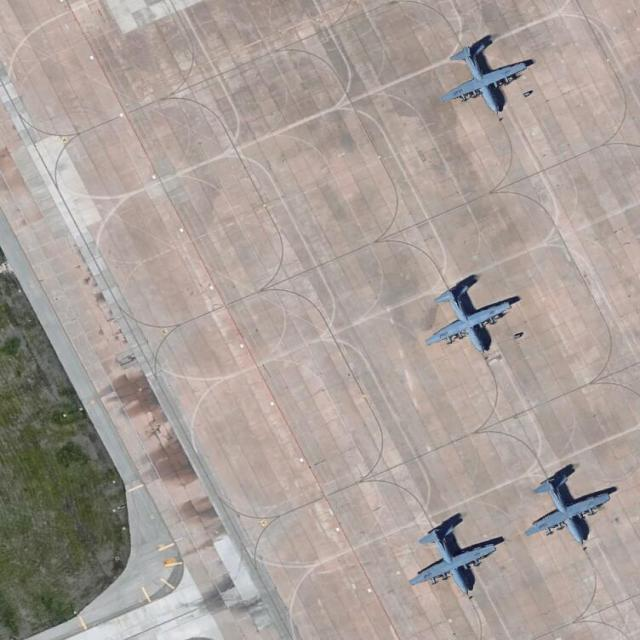fighter jet: (409, 272, 525, 361), (434, 32, 532, 114), (521, 468, 616, 546), (407, 522, 502, 595)
